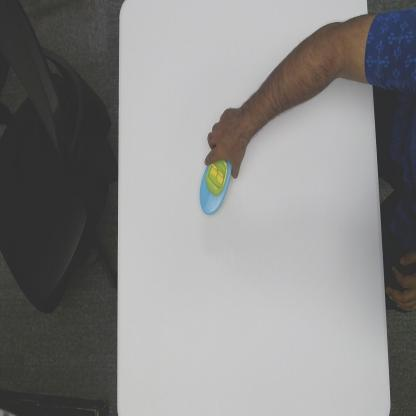Arm: (243, 13, 370, 136)
Boat: (199, 157, 232, 216)
Hand: (204, 105, 248, 178)
